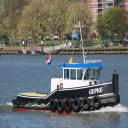tugboat: (12, 12, 122, 119)
